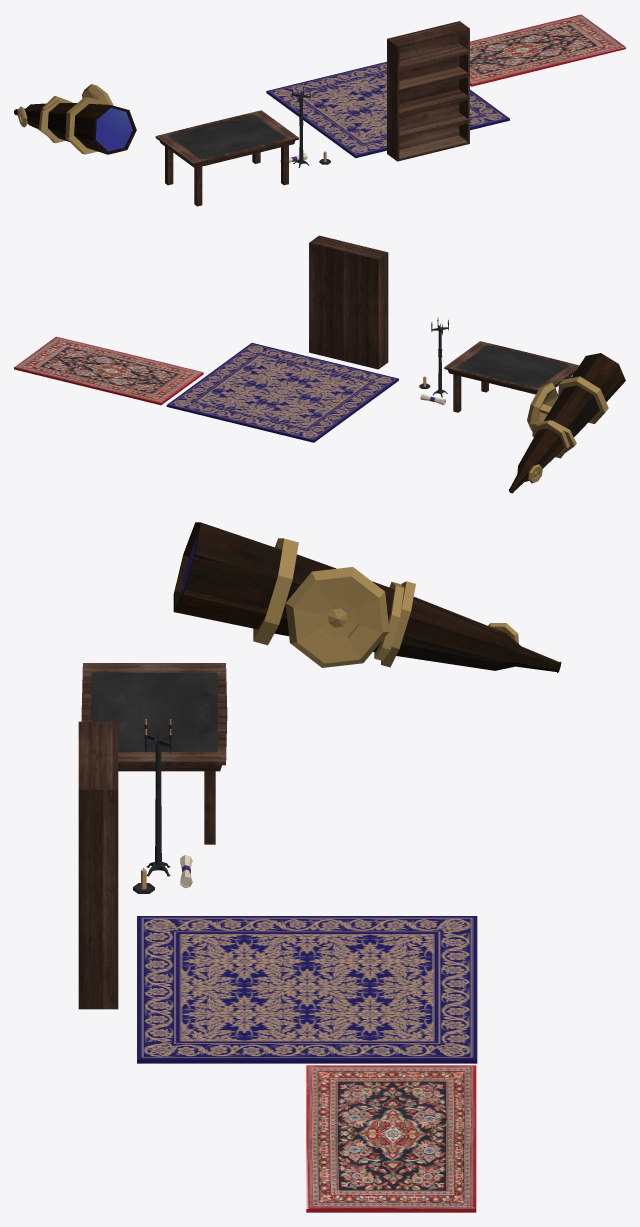
Rendered from Furniture Set.fbx.
The picture shows the model from 3 angles, top to bottom: view 1: azimuth 30°, elevation 25°; view 2: azimuth 150°, elevation 25°; view 3: azimuth 270°, elevation 25°; orthographic projection. The views are drawn at different scales.
Parts seen in each view (by area): view 1: Bookshelf, Rug1, Rug2, Table, Telescope, Candelabra; view 2: Rug1, Bookshelf, Telescope, Rug2, Table, Candelabra; view 3: Rug1, Telescope, Rug2, Table, Bookshelf, Candelabra.
Boxes of the visible parts, x1,y1,x2,y2 form: Bookshelf: (387,21,469,161); Rug1: (266,61,509,158); Rug2: (470,14,625,86); Table: (155,110,298,206); Telescope: (14,84,136,154); Candelabra: (291,83,310,167); Rug1: (166,343,398,442); Bookshelf: (309,235,388,369); Telescope: (508,353,625,493); Rug2: (14,336,203,405); Table: (444,341,579,412); Candelabra: (431,317,449,397); Rug1: (137,916,477,1063); Telescope: (173,522,561,672); Rug2: (306,1065,476,1212); Table: (81,663,227,844); Bookshelf: (78,721,118,1009); Candelabra: (144,719,172,876).
Size of the model in its own units: 14.71 by 5.68 by 2.93.
